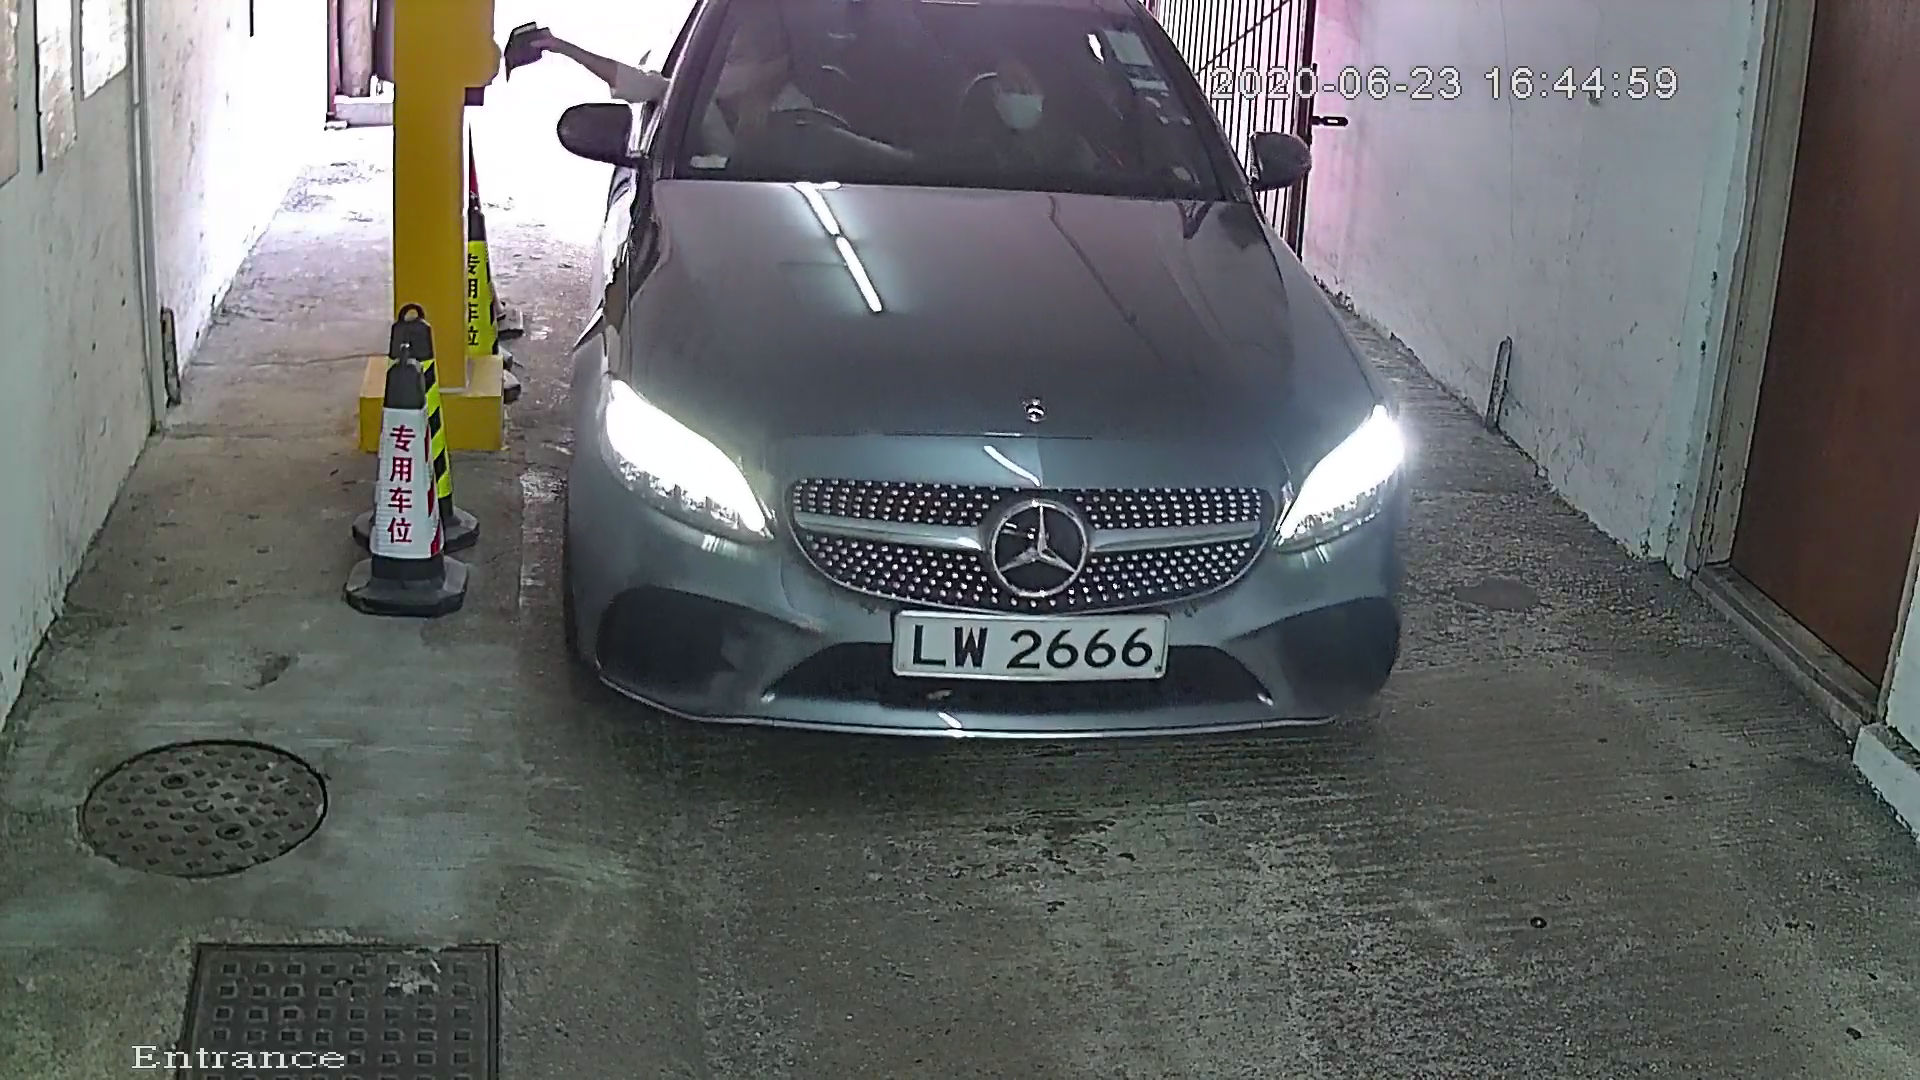privatecar: (535, 1, 1462, 800)
